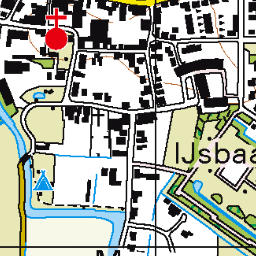church: (41, 6, 70, 52)
